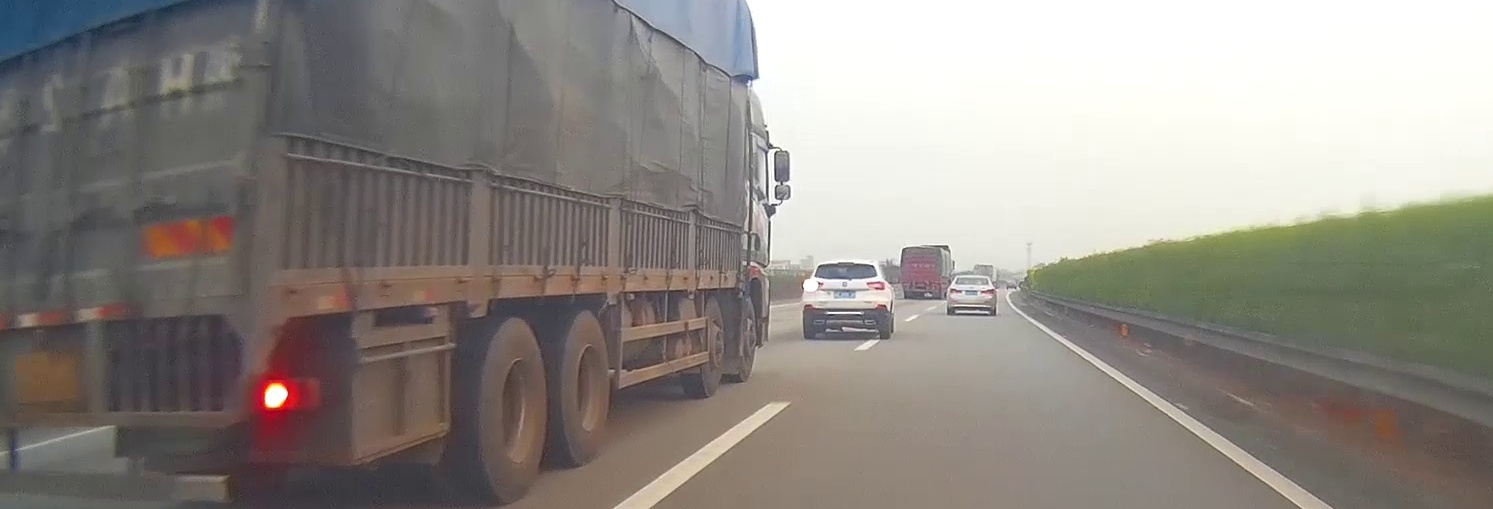L_light: (803, 279, 824, 291), (949, 288, 962, 293)
R_light: (867, 281, 886, 290), (980, 288, 993, 294)
T_light: (838, 262, 854, 266), (968, 277, 976, 279)
day-left: (802, 260, 891, 339)
day-no: (947, 275, 995, 316)
